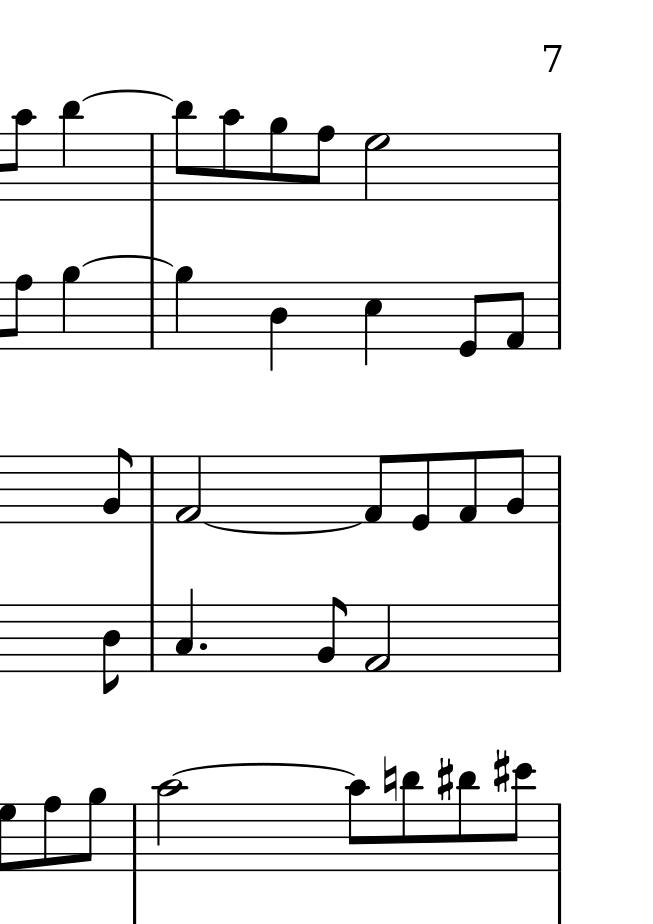2_1: (175, 454, 203, 524), (363, 603, 391, 673)
2_10: (154, 778, 183, 872)
2_7: (363, 131, 389, 202)
4_11: (59, 98, 83, 204)
4_3: (173, 588, 195, 672)
4_4: (268, 281, 289, 374)
4_5: (362, 282, 384, 368)
4_9: (61, 264, 81, 352), (173, 263, 193, 351)
7: (541, 39, 565, 72)
8_0: (456, 281, 485, 360), (408, 452, 432, 534)
8_1: (361, 453, 393, 525), (455, 449, 479, 526), (503, 280, 527, 352)
8_10: (6, 107, 34, 200), (220, 107, 243, 202), (346, 778, 369, 872)
8_11: (456, 768, 480, 873), (174, 99, 197, 201), (401, 769, 423, 872)
8_12: (504, 756, 536, 873)
8_2: (316, 596, 347, 673), (101, 447, 132, 523), (504, 447, 526, 525)
8_4: (102, 603, 122, 697)
8_8: (4, 273, 34, 351), (307, 124, 336, 203), (41, 794, 63, 873)
8_9: (78, 787, 108, 873), (268, 116, 289, 201)
Natural: (382, 754, 398, 803)
Sharp: (436, 756, 455, 803), (492, 748, 511, 795)
Single_barline: (143, 282, 164, 345), (143, 134, 161, 199), (126, 804, 143, 871), (551, 282, 567, 348), (551, 134, 567, 199), (552, 802, 567, 871), (551, 606, 567, 670), (145, 457, 160, 523), (553, 456, 567, 525), (146, 608, 158, 670)
Slur: (170, 761, 360, 778), (205, 523, 365, 536), (82, 253, 170, 269), (81, 88, 171, 102)
dot: (197, 640, 209, 653)
